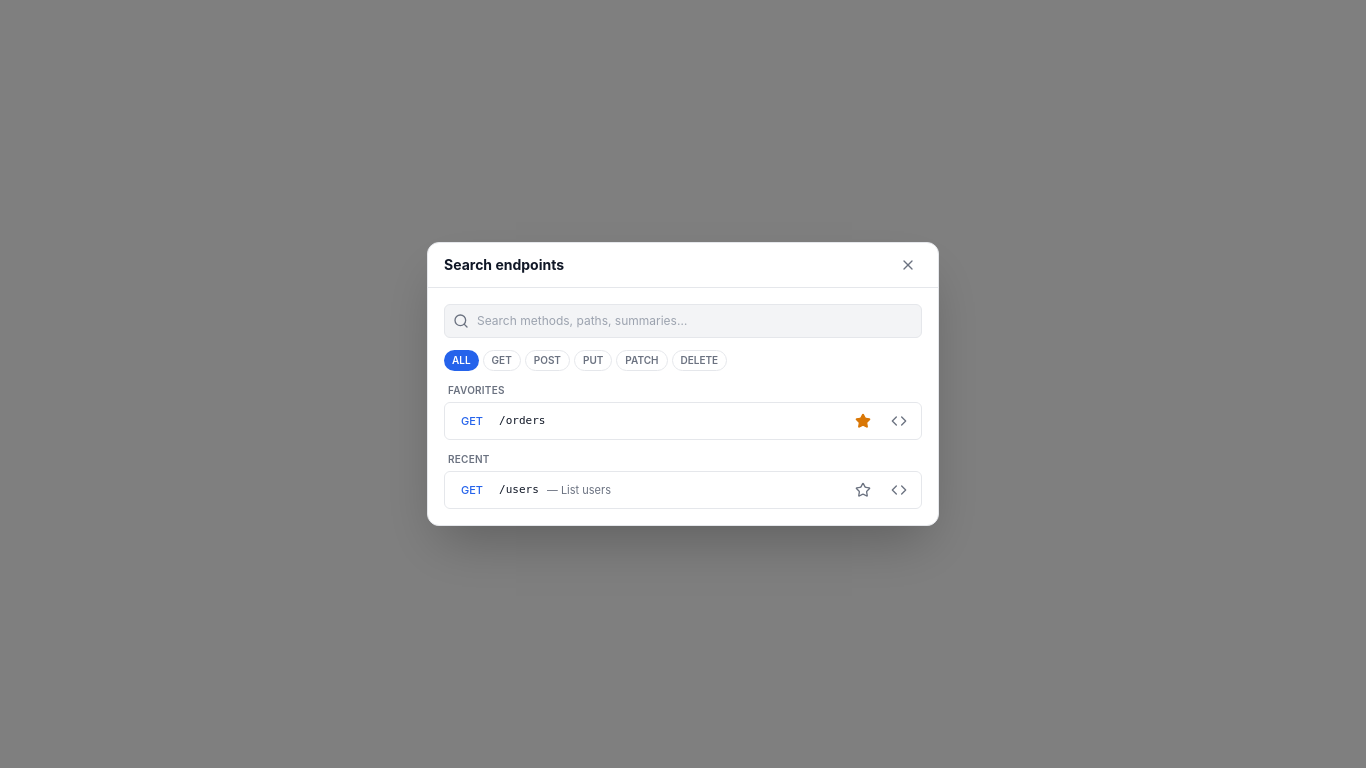
Scenario: CommandPalette › reveals copy-as-code buttons
Type "user" into the field. click: (695, 321)
box: [477,305,913,337]
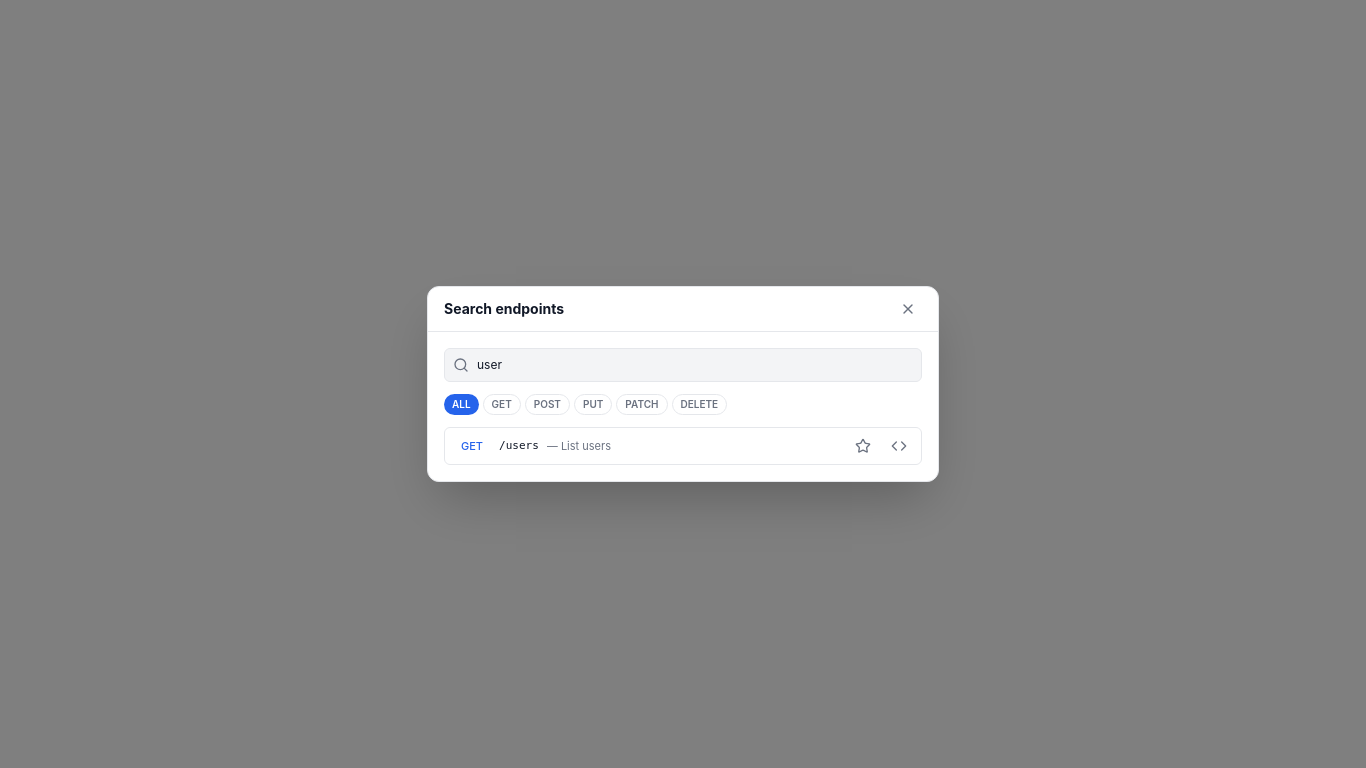
Click the button named "Copy code for /users". click: (899, 446)
box: [885,432,913,460]
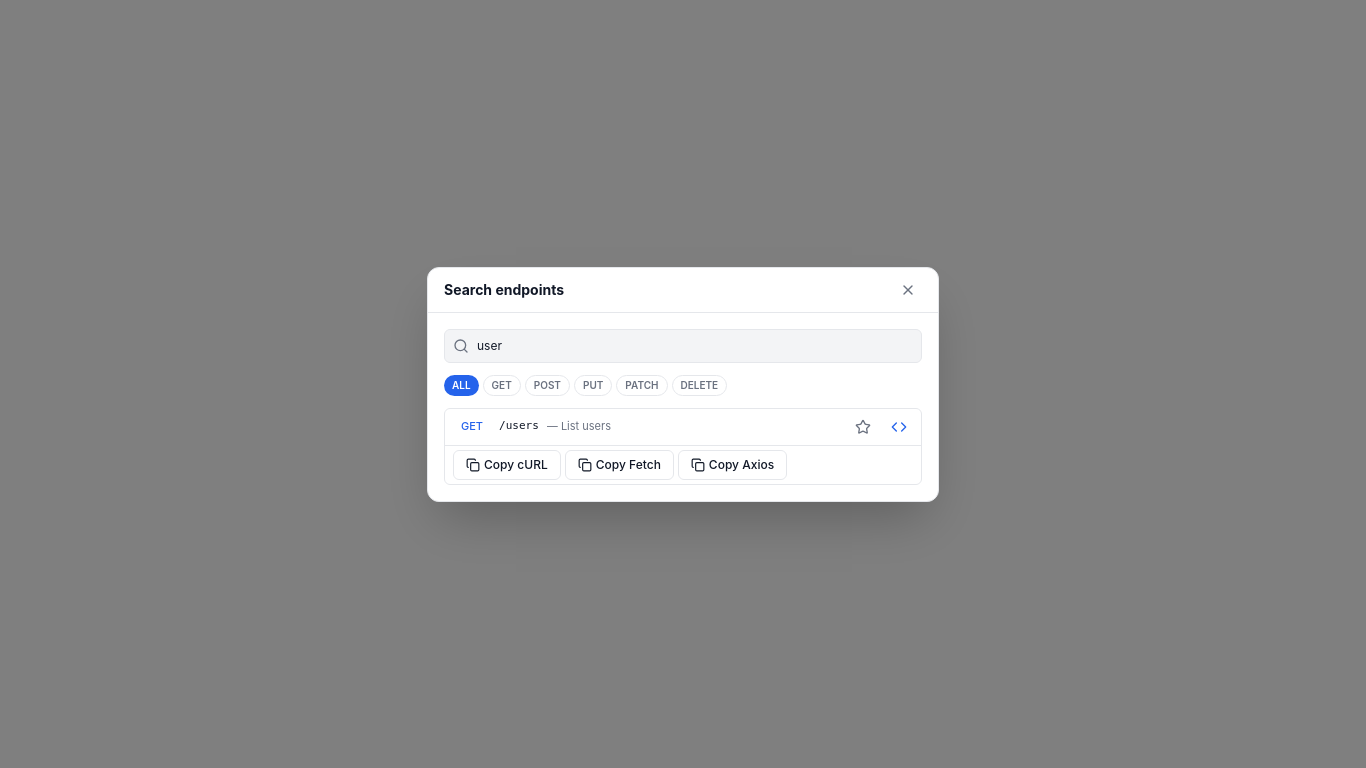
expect the button "Copy cURL" is shown: met, box [453,450,561,480]
expect the button "Copy Fetch" is shown: met, box [565,450,674,480]
expect the button "Copy Axios" is shown: met, box [678,450,787,480]
